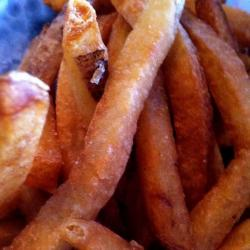fries: (25, 8, 222, 231)
